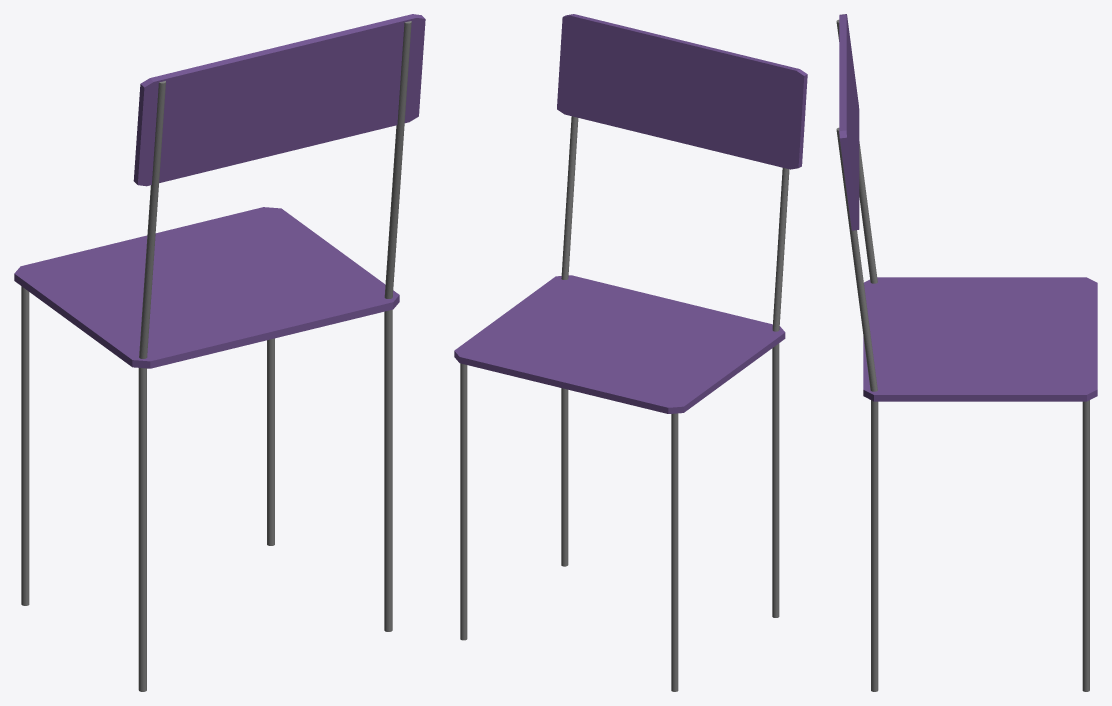
File: BistroChair.glb
The picture shows the model from 3 angles, left to right: view 1: azimuth 30°, elevation 25°; view 2: azimuth 150°, elevation 25°; view 3: azimuth 270°, elevation 25°; orthographic projection. The views are drawn at different scales.
Parts seen in each view (by area): view 1: Cube, Cube.001, Cylinder, Cylinder.001; view 2: Cube, Cube.001, Cylinder, Cylinder.001; view 3: Cube, Cylinder, Cube.001, Cylinder.001.
Boxes of the visible parts, left/top/right/bottom form: Cube: left=14, top=207, right=399, bottom=368; Cube.001: left=133, top=14, right=425, bottom=186; Cylinder: left=21, top=286, right=392, bottom=691; Cylinder.001: left=139, top=21, right=411, bottom=358; Cube: left=454, top=275, right=785, bottom=413; Cube.001: left=557, top=14, right=807, bottom=169; Cylinder: left=460, top=343, right=779, bottom=691; Cylinder.001: left=561, top=116, right=789, bottom=331; Cube: left=863, top=277, right=1097, bottom=401; Cylinder: left=871, top=400, right=1089, bottom=691; Cube.001: left=839, top=14, right=859, bottom=230; Cylinder.001: left=836, top=19, right=877, bottom=391.
Bounding box in the file's own units: 0.4 × 0.8504 × 0.3568.
